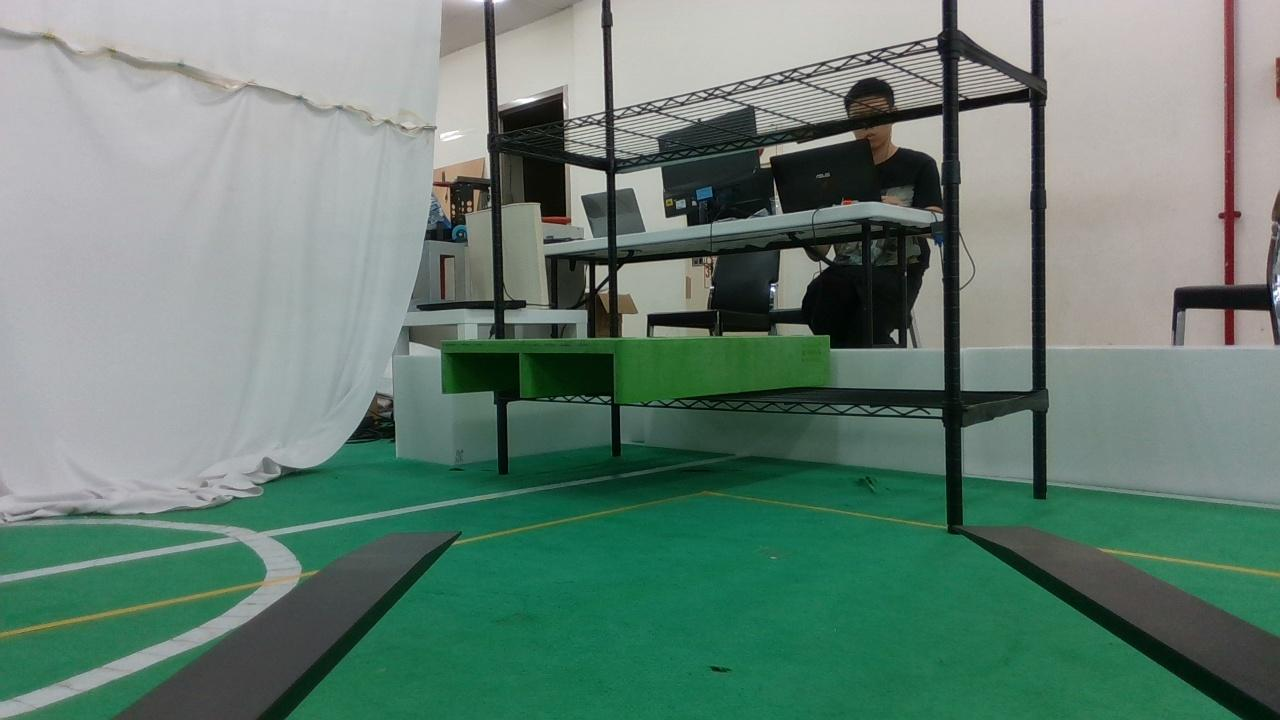Pallet: (439, 338, 628, 406)
